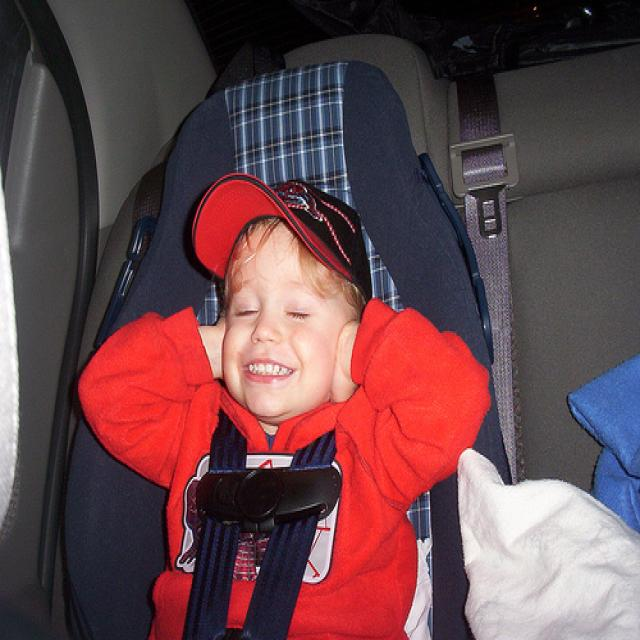person: (78, 180, 485, 640)
